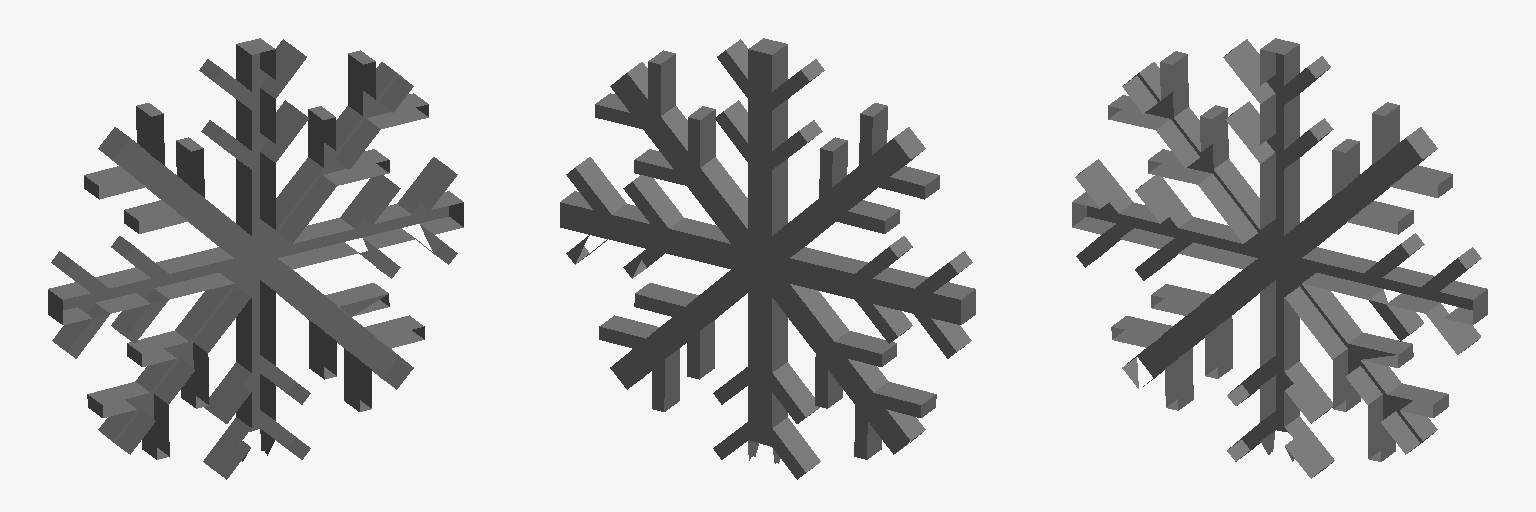
Rendered from snowflake_.obj.
The picture shows the model from 3 angles: view 1: azimuth 30°, elevation 25°; view 2: azimuth 150°, elevation 25°; view 3: azimuth 330°, elevation 25°; orthographic projection.
Visible parts, largest first — view 1: snowflake_:Mesh; view 2: snowflake_:Mesh; view 3: snowflake_:Mesh.
Boxes of the visible parts, x1,y1,x2,y2 form: snowflake_:Mesh: [48, 38, 463, 479]; snowflake_:Mesh: [560, 38, 975, 479]; snowflake_:Mesh: [1072, 38, 1487, 478].
Size of the model in its own units: 3.25 by 3.24 by 0.2137.